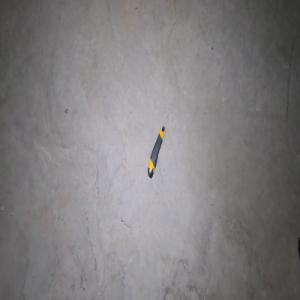Cutter: (147, 125, 165, 179)
